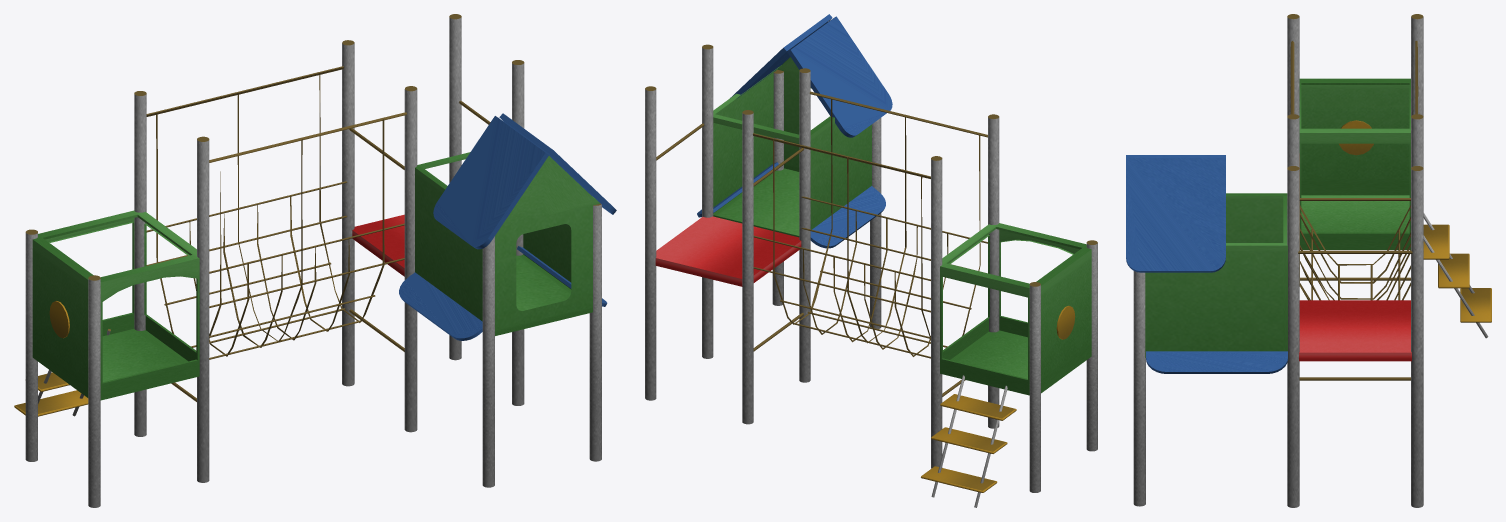
File: ETC0210011.fbx
3 views of the same model, side by side, from view 1: azimuth 30°, elevation 25°; view 2: azimuth 150°, elevation 25°; view 3: azimuth 270°, elevation 25° (orthographic). The views are drawn at different scales.
Visible parts, largest first — view 1: smETC0210011; view 2: smETC0210011; view 3: smETC0210011.
Part boxes in pixels (bbox=[...]): smETC0210011: bbox=[14, 14, 616, 507]; smETC0210011: bbox=[645, 14, 1097, 507]; smETC0210011: bbox=[1126, 14, 1491, 507].
Size of the model in its own units: 649 by 469 by 462.
Materials: 1 (1 with a texture image).
